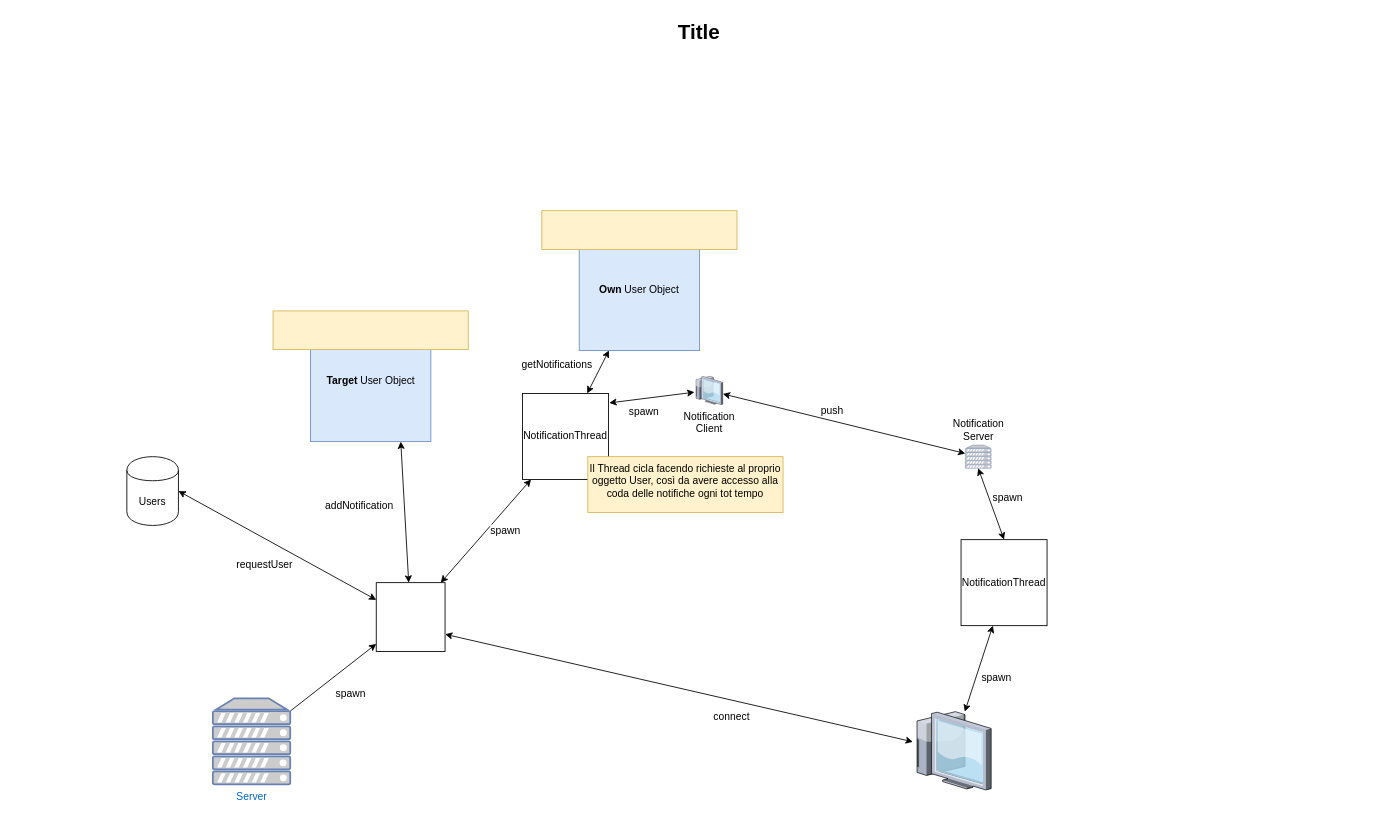
Image size: 1397x830. Some labels were removed from this diagram. The centre of each missing label's shape, as x and y in pixels:
"Client" belongs at [951,750].
"Il riferimento all'oggetto persiste all'interno della sessione" belongs at [639,229].
"L'oggetto viene recuperato durante l'esecuzione del comando SHARE" belongs at [370,330].
"TCPThread" belongs at [410,616].
